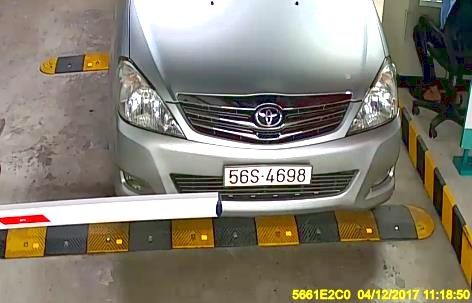plate: (223, 162, 313, 189)
